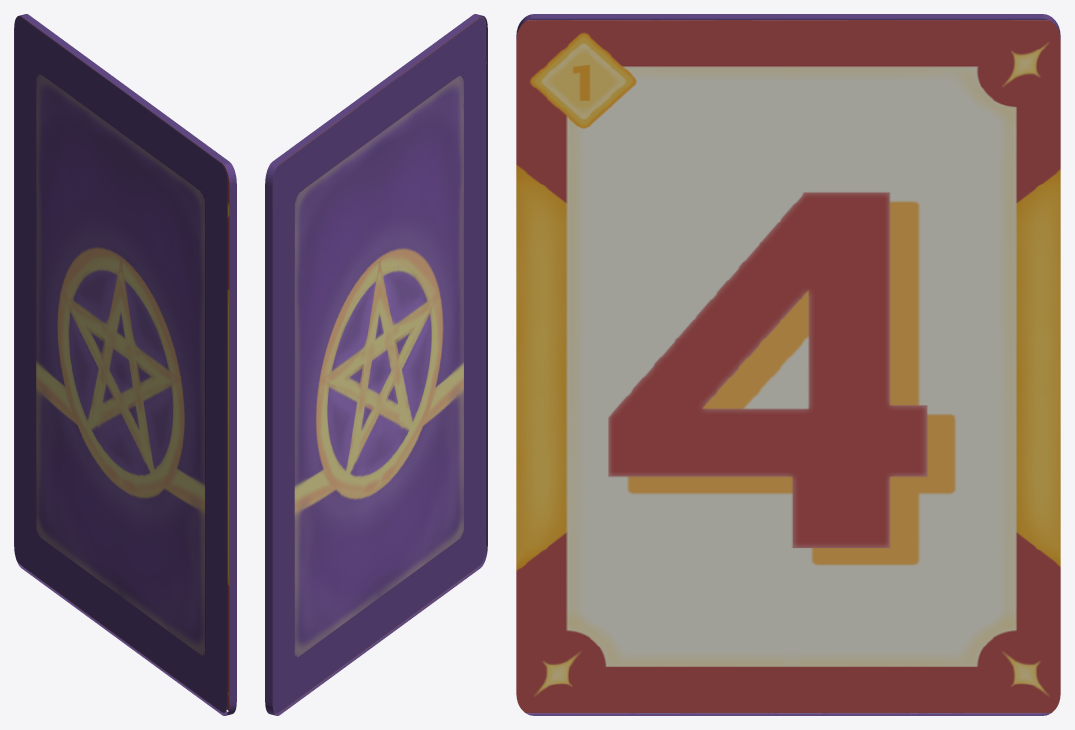
Rendered from m_card_4.fbx.
3 renders of one model, left to right at view 1: azimuth 30°, elevation 25°; view 2: azimuth 150°, elevation 25°; view 3: azimuth 270°, elevation 25°, orthographic. The views are drawn at different scales.
Visible parts, largest first — view 1: Card; view 2: Card; view 3: Card.
Part boxes in pixels (left/top/right/bottom): Card: left=14, top=14, right=236, bottom=715; Card: left=265, top=14, right=487, bottom=715; Card: left=516, top=14, right=1060, bottom=715.
Bounding box in the file's own units: 4.2 × 295 × 209.
